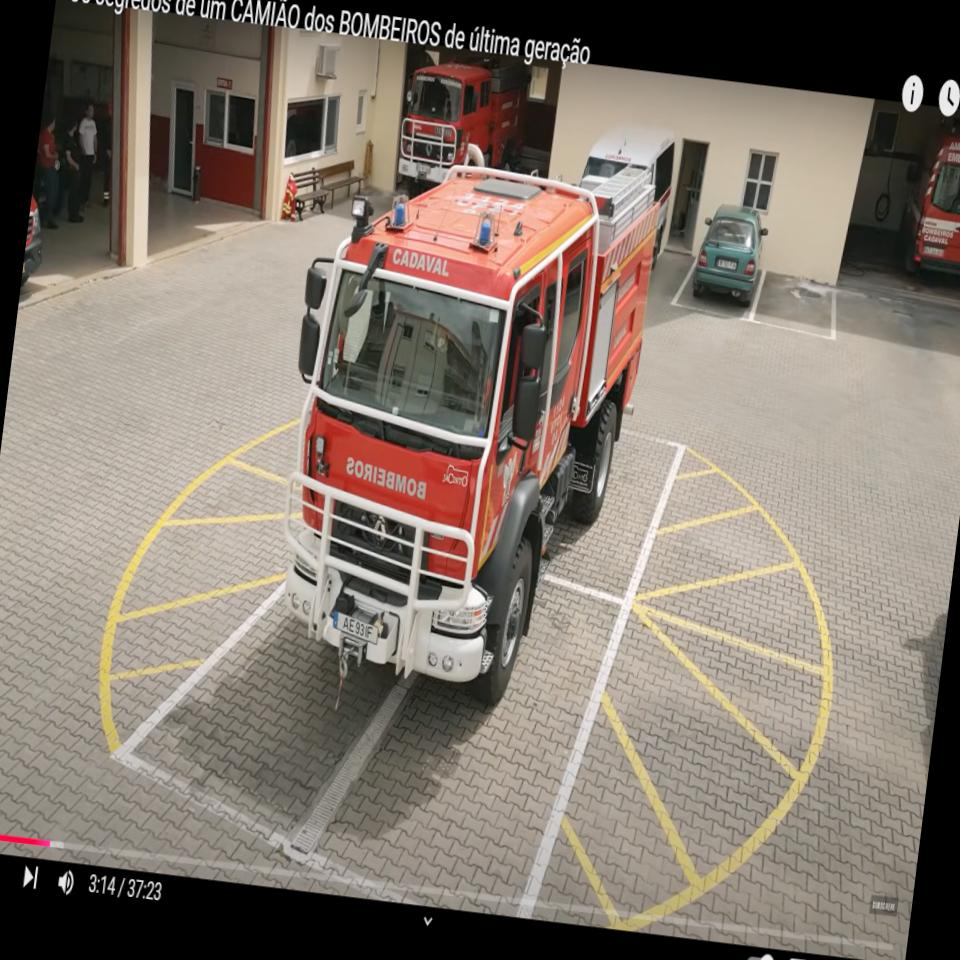viatura: (255, 128, 668, 718)
